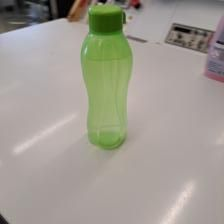bottle: (80, 6, 134, 151)
